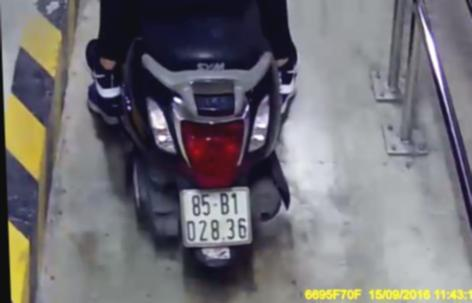License_Plate: (173, 186, 255, 249)
